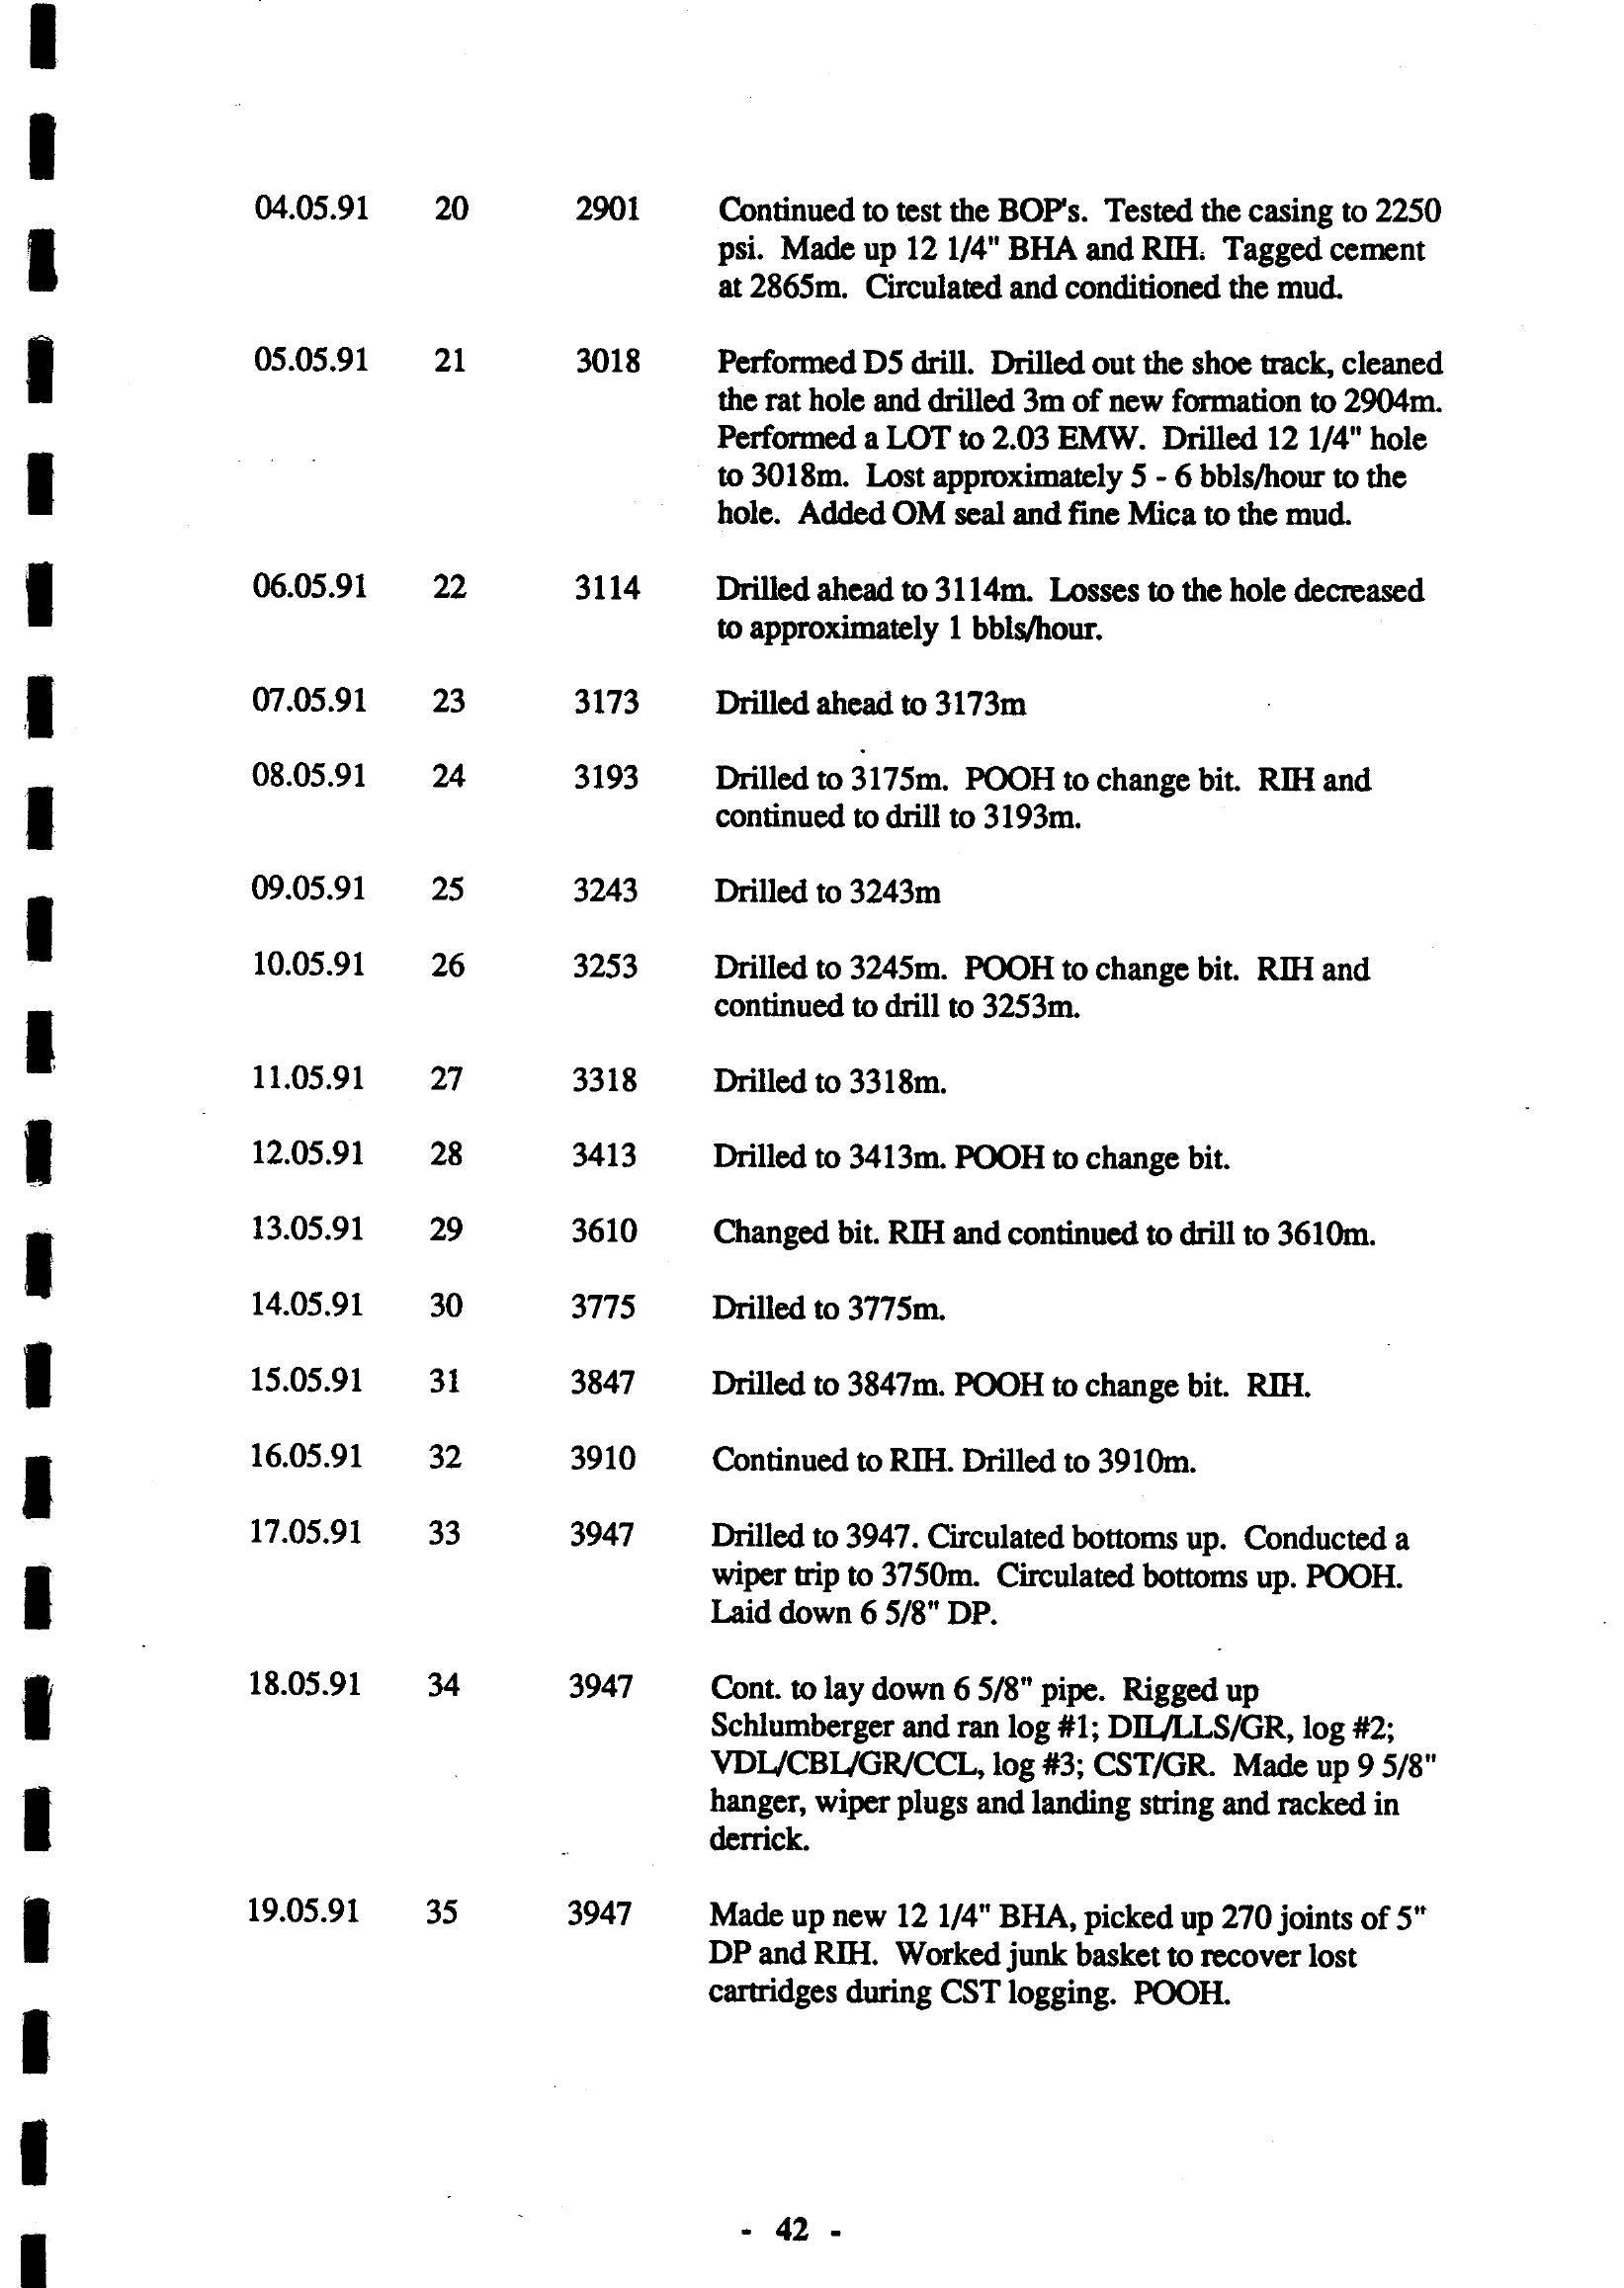text: (197, 155, 1531, 2061)
